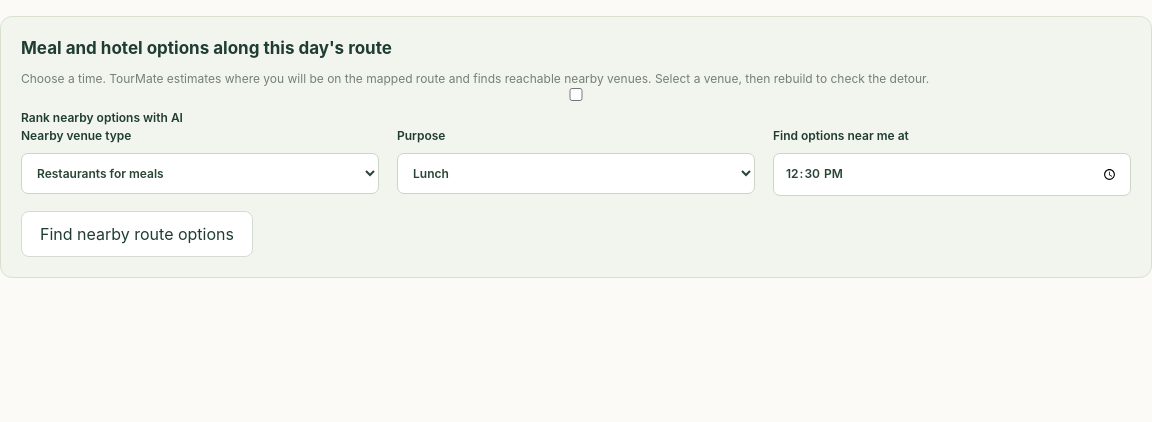
Test: route-based meal and hotel options › shows routing failures instead of substituting venues from the destination town
Click the button "Find nearby route options": {"x": 137, "y": 234} [21,211,253,257]
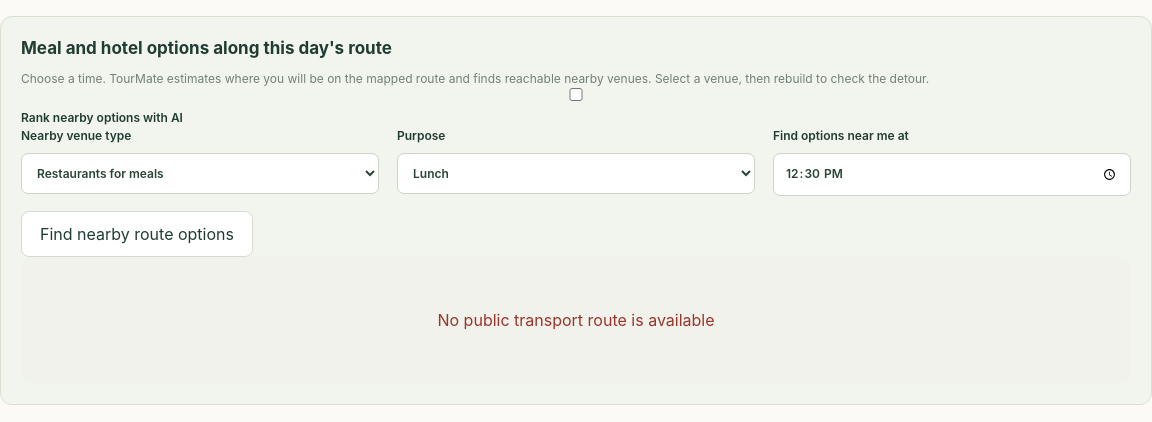
Now the message "No public transport route is available" is shown, box [21,257,1131,384]
